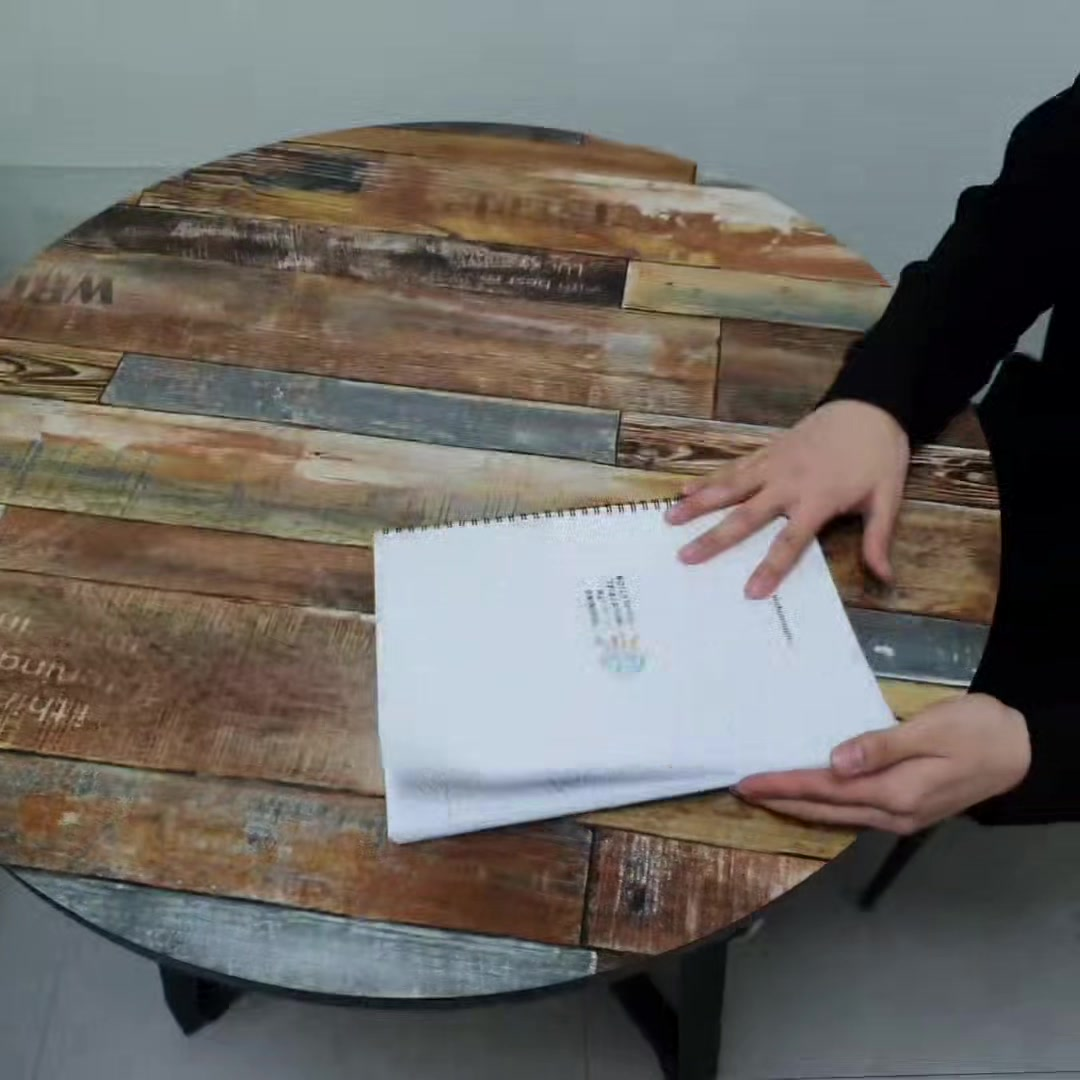book: (367, 459, 916, 841)
